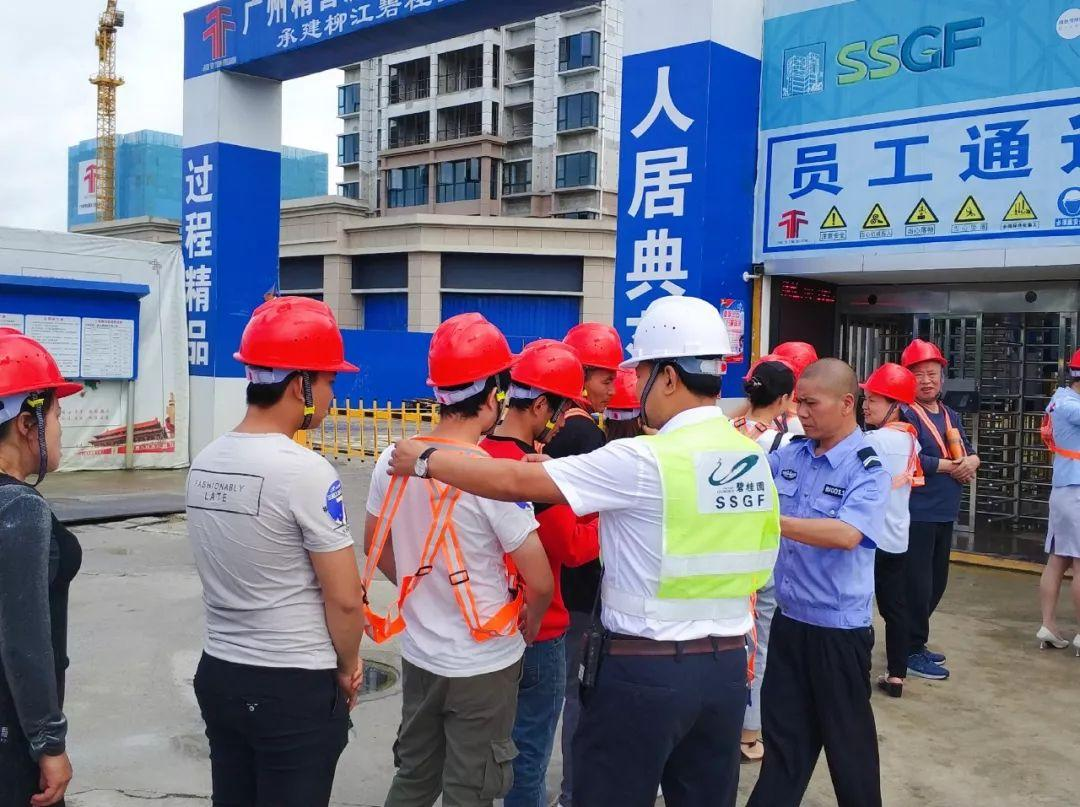helmet: (229, 297, 357, 381), (1, 331, 87, 434), (626, 297, 740, 368), (427, 315, 515, 387), (507, 342, 591, 406), (757, 333, 824, 393), (596, 361, 662, 413), (567, 321, 630, 370), (864, 363, 923, 408), (908, 340, 951, 371)
